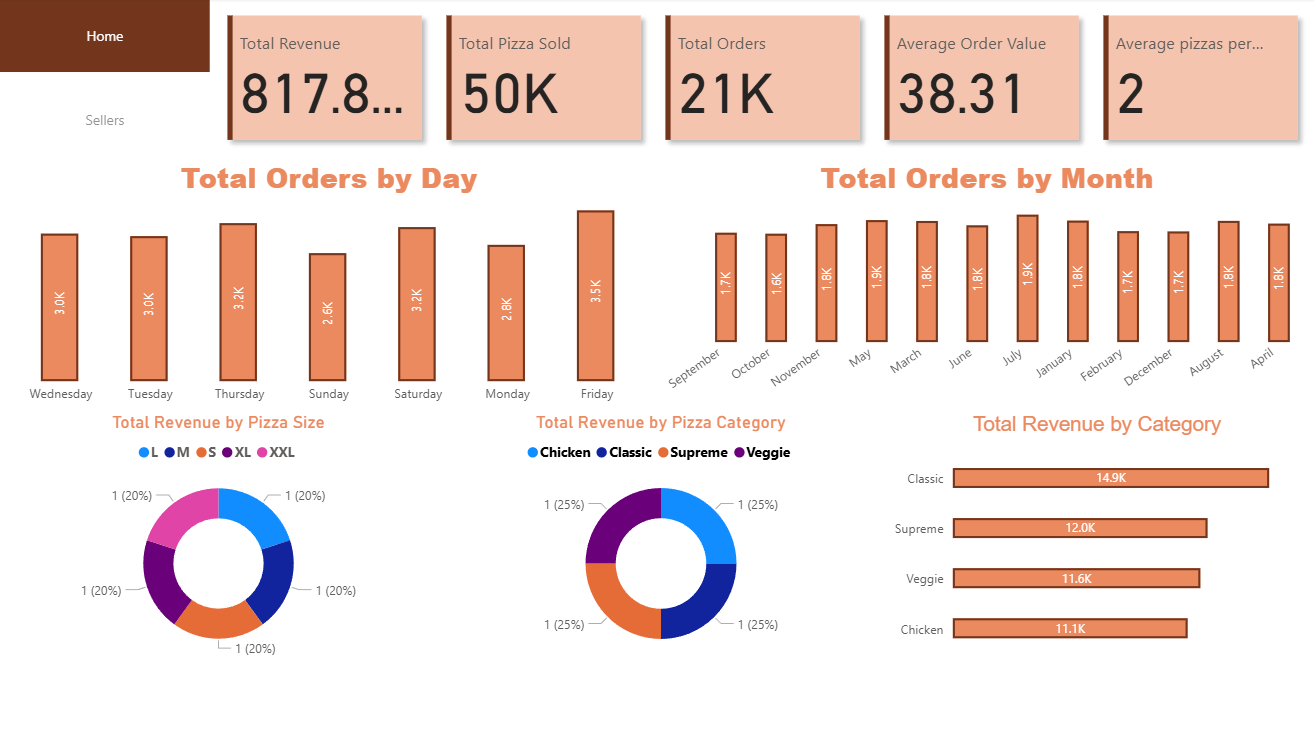

What the dashboard file says about the page in this screenshot:
{"tool":"powerbi","page":{"name":"Home","canvas":[1280,720],"ordinal":0},"visuals":[{"type":"clusteredColumnChart","title":"Total Orders by Day","fields":{"Y":["Sum(Daily_Trend_for_Total_Orders.Total Orders)"],"Category":["Daily_Trend_for_Total_Orders.Order Day"]},"box":[0,155.6,640,247.1],"z":0},{"type":"cardVisual","fields":{"Data":["Sum(Total_Revenue.Total Revenue)","Sum(Total_Pizza_Sold.Total Pizza Sold)","Sum(Total_Orders.Total Orders)","Sum(Average_Order_Value.Average Order Value)","Sum(Average_pizzas_per_order.Average pizzas per order)"]},"box":[204.3,0,1075.7,155.6],"z":1000},{"type":"clusteredColumnChart","title":"Total Orders by Month","fields":{"Y":["Sum(Monthly_Trend_for_Orders.Total Orders)"],"Category":["Monthly_Trend_for_Orders.Month"]},"box":[640,155.6,640,247.1],"z":2000},{"type":"pageNavigator","box":[0,0,204.3,155.6],"z":3000},{"type":"actionButton","box":[0,77.8,200.4,77.8],"z":4000},{"type":"donutChart","title":"Total Revenue by Pizza Size","fields":{"Category":["PCT_of_Sales_by_Pizza_Size.pizza_size"],"Y":["CountNonNull(PCT_of_Sales_by_Pizza_Size.Total Revenue)"],"Series":["PCT_of_Sales_by_Pizza_Size.PCT"]},"box":[2.9,402.7,419.2,247.1],"z":5000},{"type":"donutChart","title":"Total Revenue by Pizza Category ","fields":{"Category":["PCT_of_Sales_by_Pizza_Category.pizza_category"],"Y":["CountNonNull(PCT_of_Sales_by_Pizza_Category.Total Revenue)"],"Series":["PCT_of_Sales_by_Pizza_Category.PCT"]},"box":[422.1,402.7,441.6,247.1],"z":6000},{"type":"clusteredBarChart","title":"Total Revenue by Category","fields":{"Category":["Total_Pizzas_Sold_by_Pizza_Category (2).pizza_category"],"Y":["Sum(Total_Pizzas_Sold_by_Pizza_Category (2).Total Pizza Sold)"]},"box":[860.8,402.7,412.4,247.1],"z":7000}]}

Visuals, with their boxes in screenshot pixels (x1, y1, x2, y2), scaled from the page's 1280x720 canvas onto the 1314x737 screenshot:
"Total Orders by Day" clusteredColumnChart: 0:159:657:412
cardVisual - Sum(Total_Revenue.Total Revenue) x Sum(Total_Pizza_Sold.Total Pizza Sold): 210:0:1313:159
"Total Orders by Month" clusteredColumnChart: 657:159:1313:412
pageNavigator: 0:0:210:159
actionButton: 0:80:206:159
"Total Revenue by Pizza Size" donutChart: 3:412:433:665
"Total Revenue by Pizza Category " donutChart: 433:412:887:665
"Total Revenue by Category" clusteredBarChart: 884:412:1307:665
